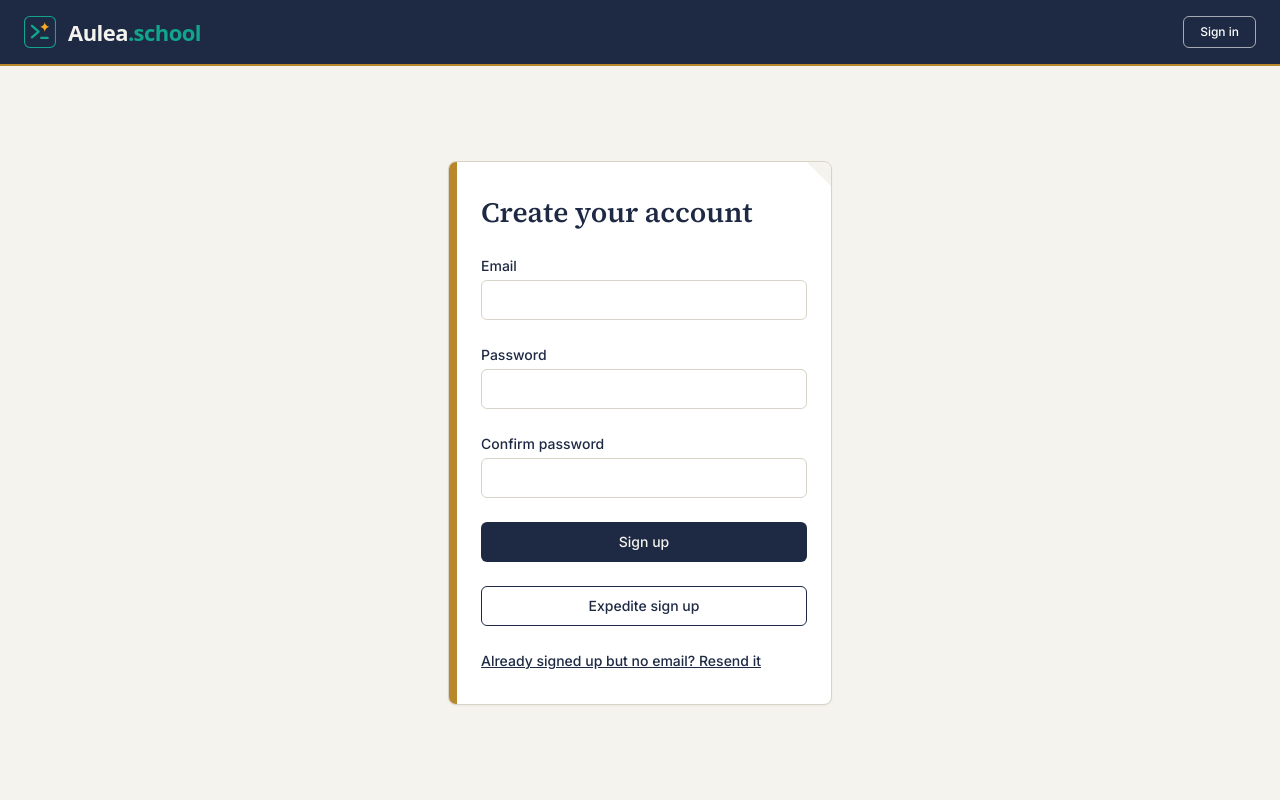
Test case: SignUpPage (SIGNUP-CONFIRMATION-001) › keeps the form and shows the error after a 409
Expected: the button "Expedite sign up" is shown, [481,586,807,626]
Type "taken@b.it" into the field labelled "Email". click: (644, 300)
box: [481,280,807,320]
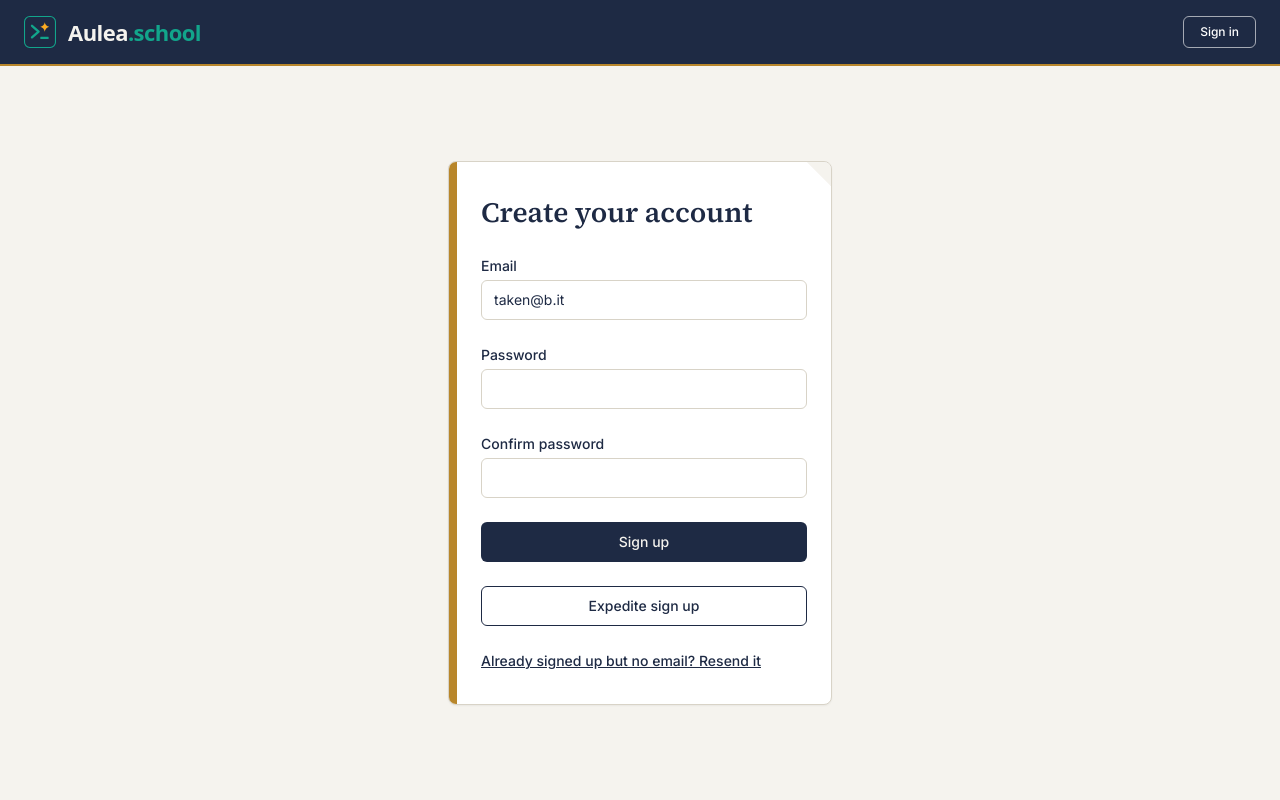
Type "longenough" into the password field labelled "Password". click: (644, 389)
box: [481,369,807,409]
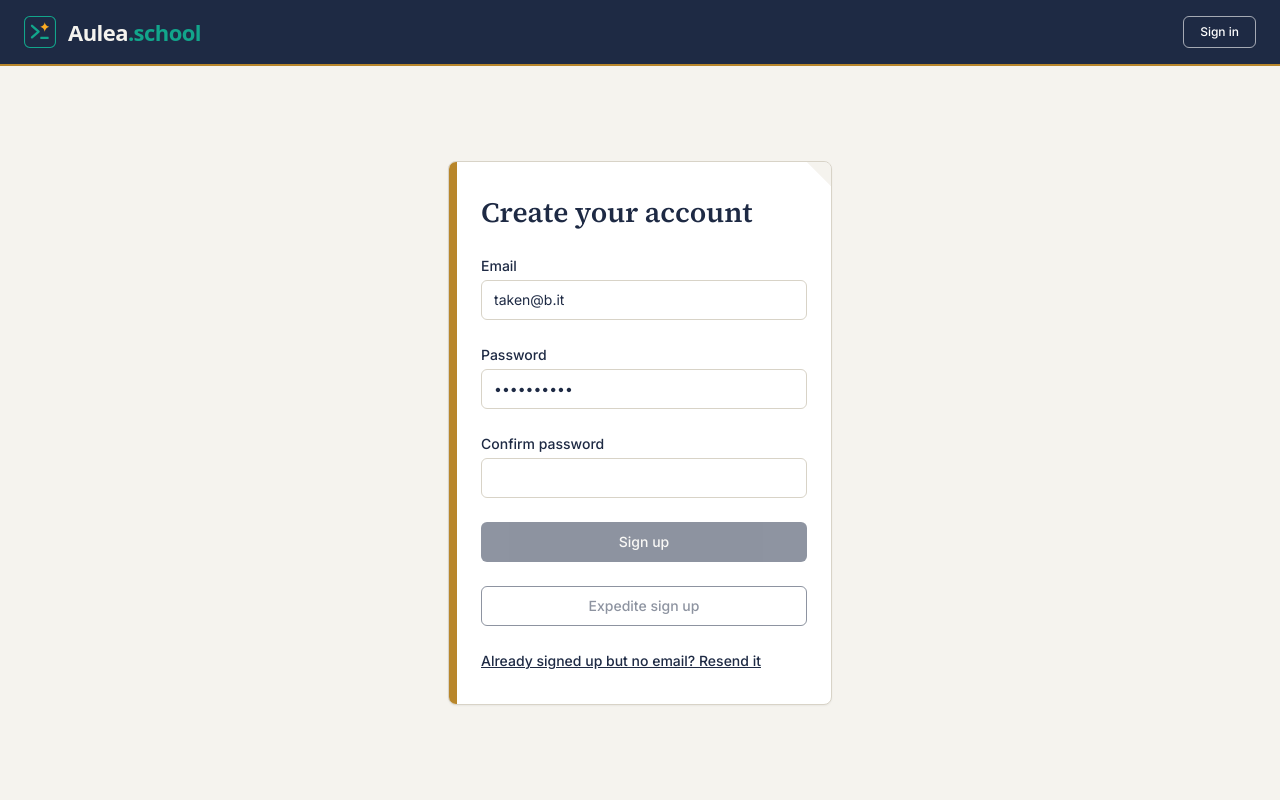
Type "longenough" into the password field labelled "Confirm password". click: (644, 478)
box: [481,458,807,498]
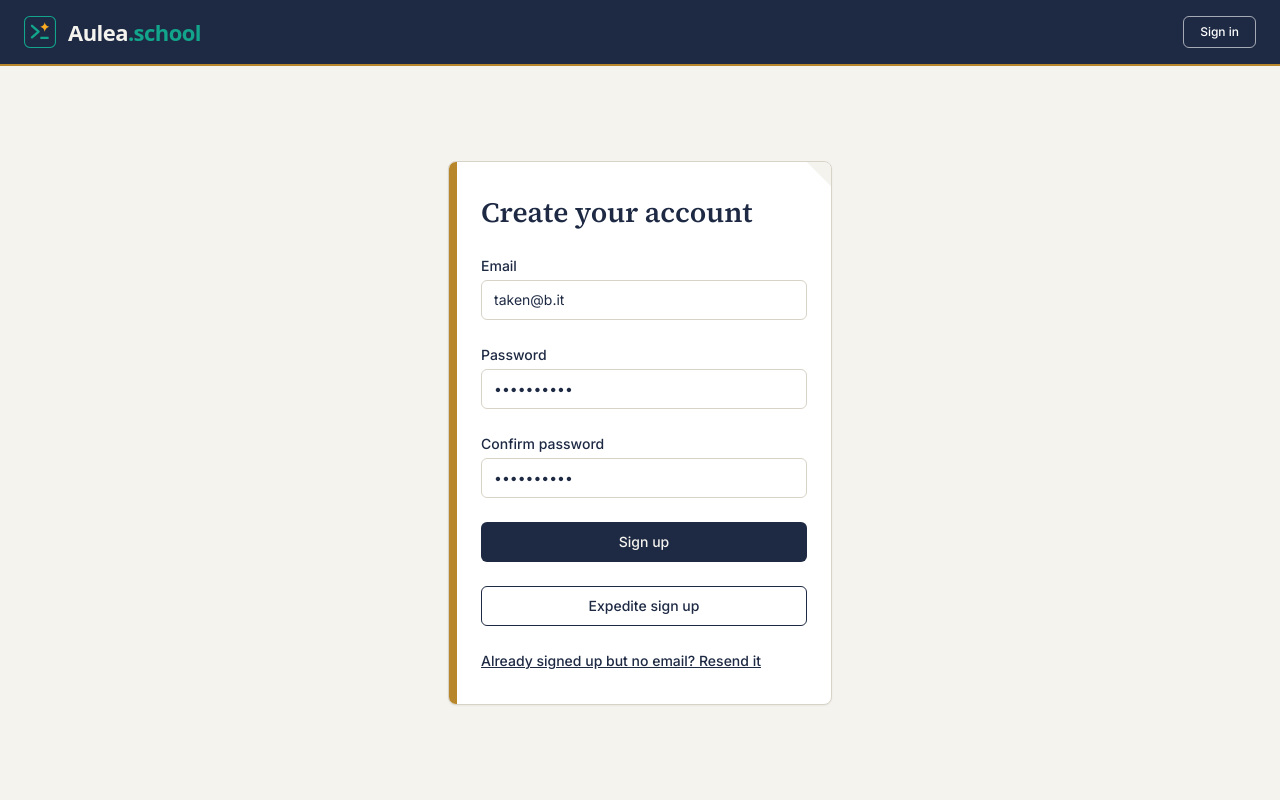
Click the button "Sign up". click: (644, 542)
box: [481,522,807,562]
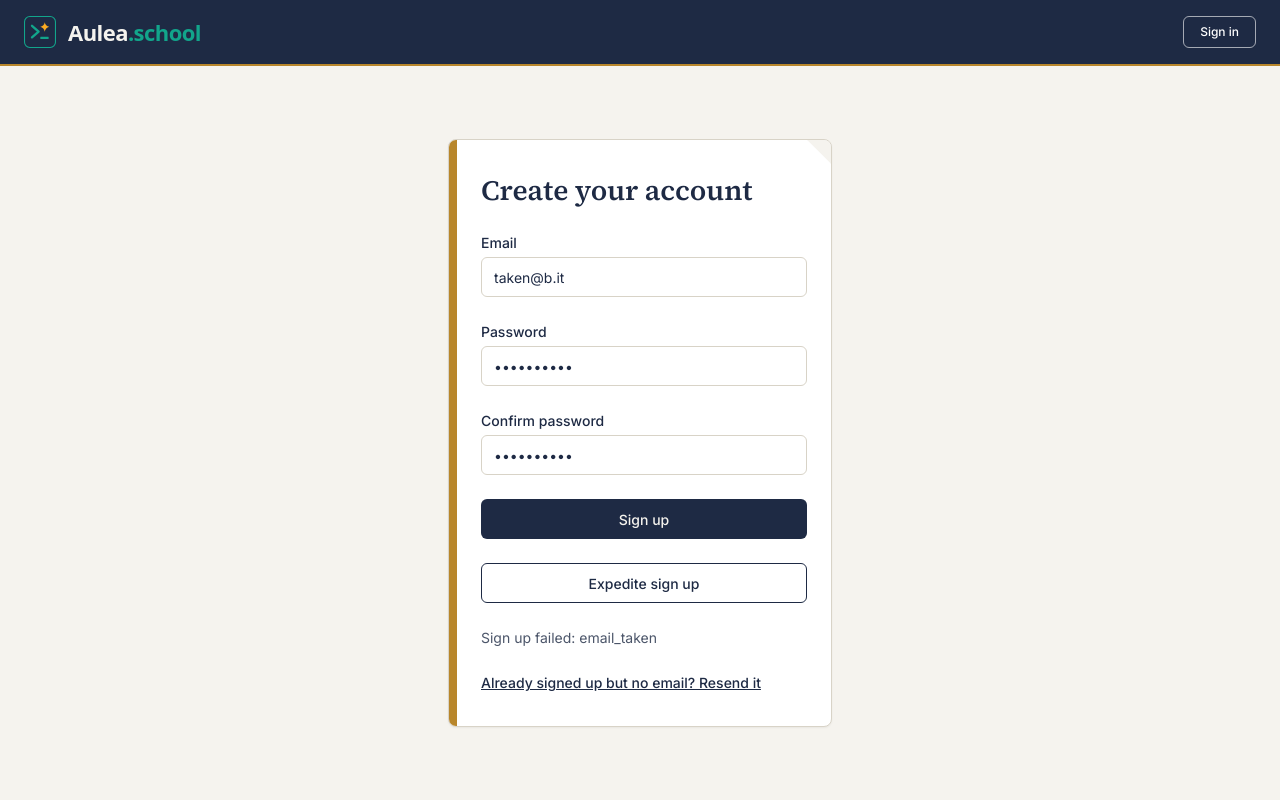
Expected: the button "Sign up" is shown, [481,499,807,539]
Now the message shows "email_taken", box [481,629,657,646]
